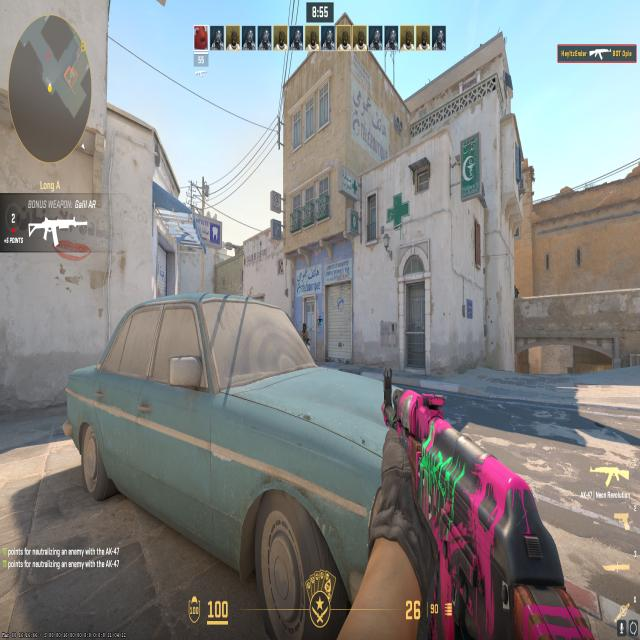ct: (512, 279, 520, 298)
t: (297, 315, 313, 349)
